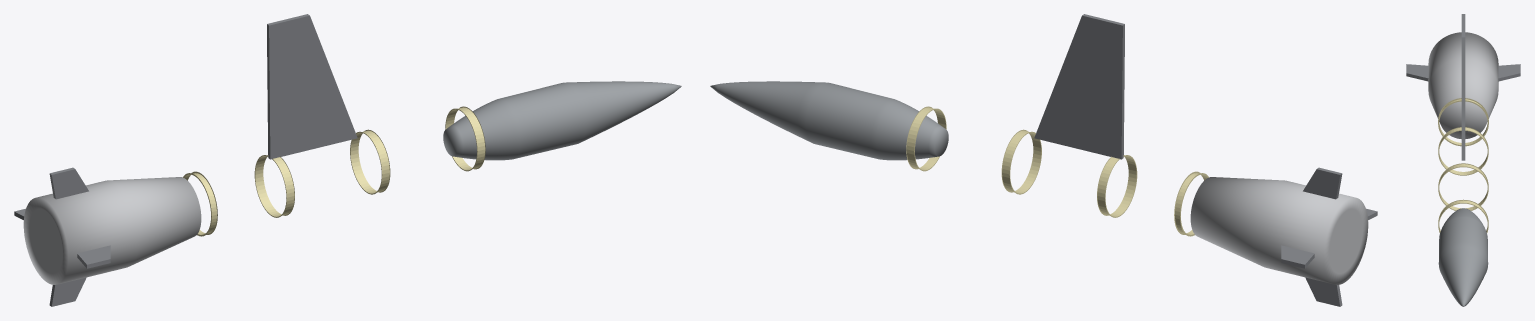
The model's file is RU_LAM_Kalibr_3M14_LOD0.fbx.
3 renders of one model, left to right at view 1: azimuth 30°, elevation 25°; view 2: azimuth 150°, elevation 25°; view 3: azimuth 270°, elevation 25°, orthographic. The views are drawn at different scales.
Visible parts, largest first — view 1: WPN_RU_LAM_Kalibr_3M14_LOD0_Tail, WPN_RU_LAM_Kalibr_3M14_LOD0_Body, WPN_RU_LAM_Kalibr_3M14_LOD0_Wings, WPN_RU_LAM_Kalibr_3M14_LOD0_Marking, WPN_RU_LAM_Kalibr_3M14_LOD0_Fins; view 2: WPN_RU_LAM_Kalibr_3M14_LOD0_Tail, WPN_RU_LAM_Kalibr_3M14_LOD0_Body, WPN_RU_LAM_Kalibr_3M14_LOD0_Wings, WPN_RU_LAM_Kalibr_3M14_LOD0_Marking, WPN_RU_LAM_Kalibr_3M14_LOD0_Fins; view 3: WPN_RU_LAM_Kalibr_3M14_LOD0_Tail, WPN_RU_LAM_Kalibr_3M14_LOD0_Body, WPN_RU_LAM_Kalibr_3M14_LOD0_Marking, WPN_RU_LAM_Kalibr_3M14_LOD0_Fins, WPN_RU_LAM_Kalibr_3M14_LOD0_Wings.
Boxes of the visible parts, x1,y1,x2,y2 form: WPN_RU_LAM_Kalibr_3M14_LOD0_Tail: (23,177,201,284); WPN_RU_LAM_Kalibr_3M14_LOD0_Body: (443,81,681,160); WPN_RU_LAM_Kalibr_3M14_LOD0_Wings: (267,14,357,159); WPN_RU_LAM_Kalibr_3M14_LOD0_Marking: (183,106,485,236); WPN_RU_LAM_Kalibr_3M14_LOD0_Fins: (14,167,110,306); WPN_RU_LAM_Kalibr_3M14_LOD0_Tail: (1190,177,1368,284); WPN_RU_LAM_Kalibr_3M14_LOD0_Body: (710,81,948,160); WPN_RU_LAM_Kalibr_3M14_LOD0_Wings: (1034,14,1124,159); WPN_RU_LAM_Kalibr_3M14_LOD0_Marking: (906,106,1208,236); WPN_RU_LAM_Kalibr_3M14_LOD0_Fins: (1281,167,1377,306); WPN_RU_LAM_Kalibr_3M14_LOD0_Tail: (1428,32,1498,138); WPN_RU_LAM_Kalibr_3M14_LOD0_Body: (1438,208,1488,306); WPN_RU_LAM_Kalibr_3M14_LOD0_Marking: (1438,98,1488,232); WPN_RU_LAM_Kalibr_3M14_LOD0_Fins: (1406,14,1520,81); WPN_RU_LAM_Kalibr_3M14_LOD0_Wings: (1461,21,1465,160).
Bounding box in the file's own units: 6.2 × 1.23 × 2.13.
